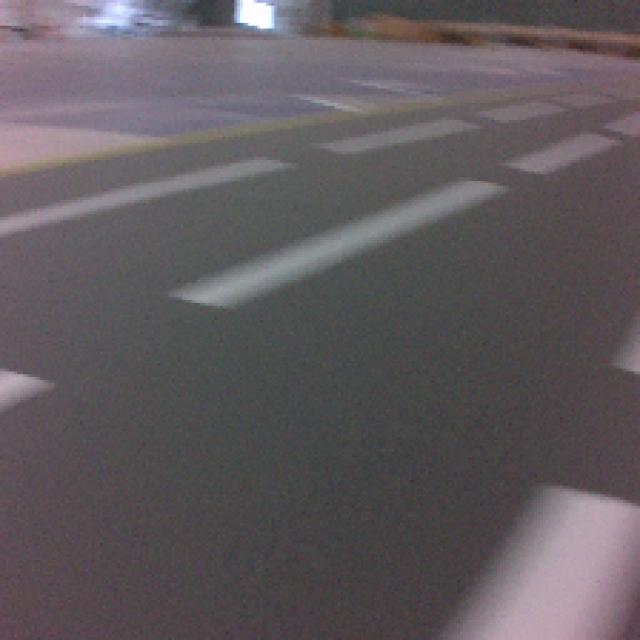Pedestrian crosswalk: (439, 489, 640, 640)
